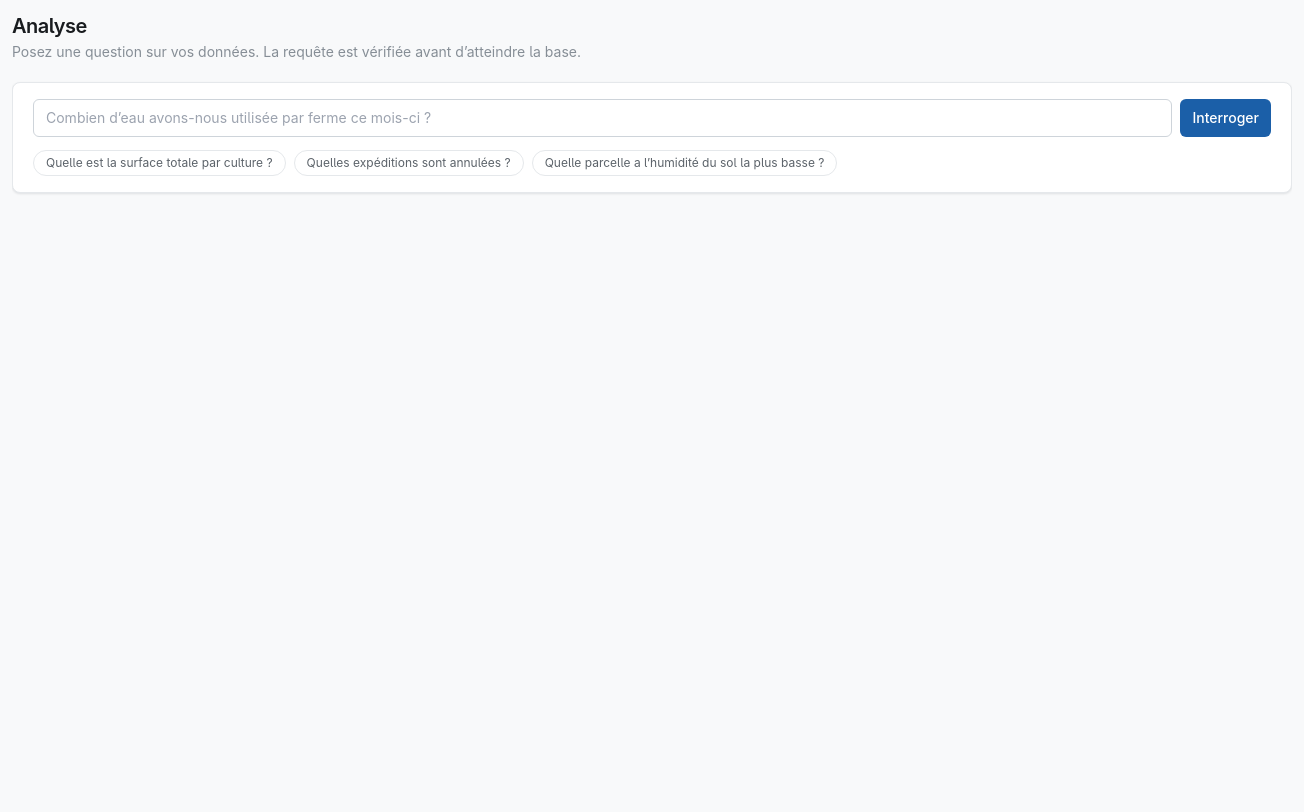
Test case: le résultat › marque un résultat partiel plutôt que de le présenter comme complet
The image size is (1304, 812).
Click the button "Quelle est la surface totale par culture ?": (159,163) [33,150,286,176]
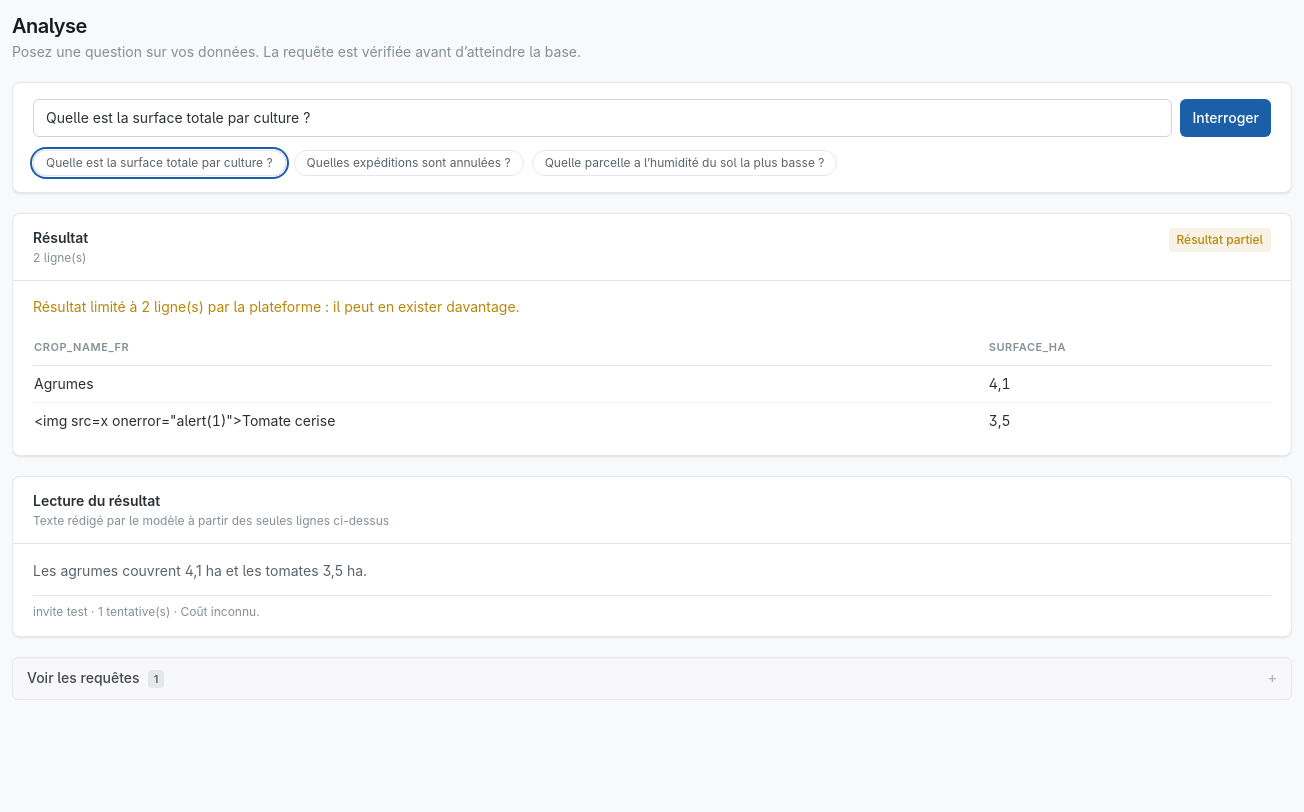
Result: the text "Résultat partiel" is shown at [1168,228,1271,252]
Result: the text "peut en exister davantage" is shown at [33,298,520,315]
